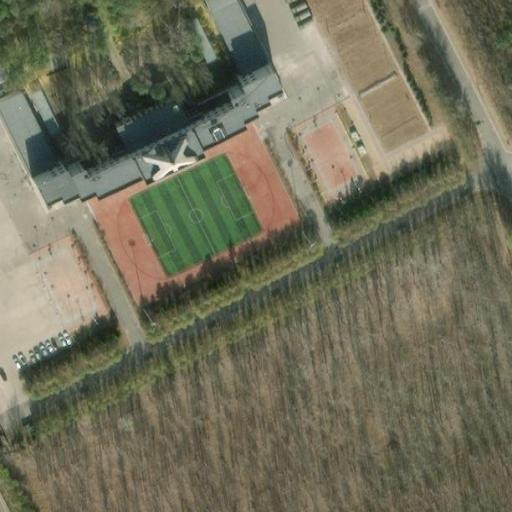building: (23, 58, 270, 194), (105, 84, 183, 144), (0, 86, 51, 175), (25, 83, 65, 137), (182, 12, 219, 65)
